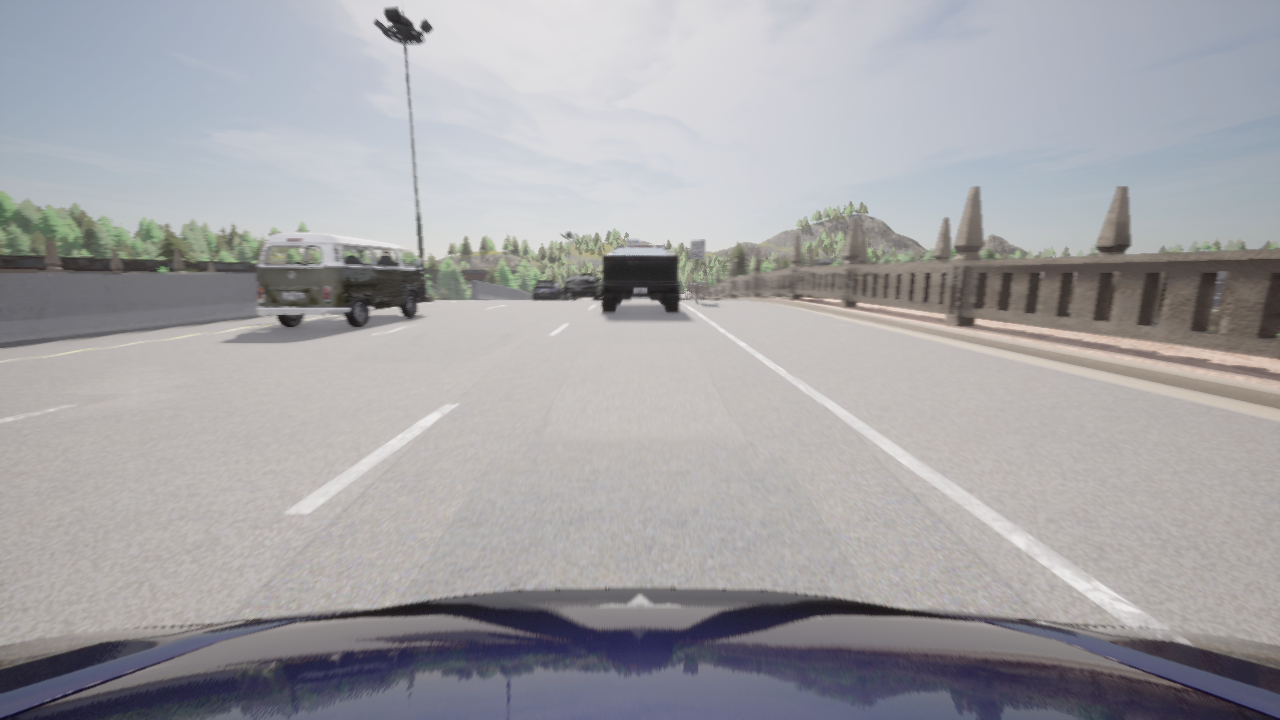cyclist: (0, 588, 1279, 719), (256, 233, 425, 327), (601, 248, 679, 311), (619, 239, 661, 299), (564, 274, 600, 299), (532, 281, 564, 299)
